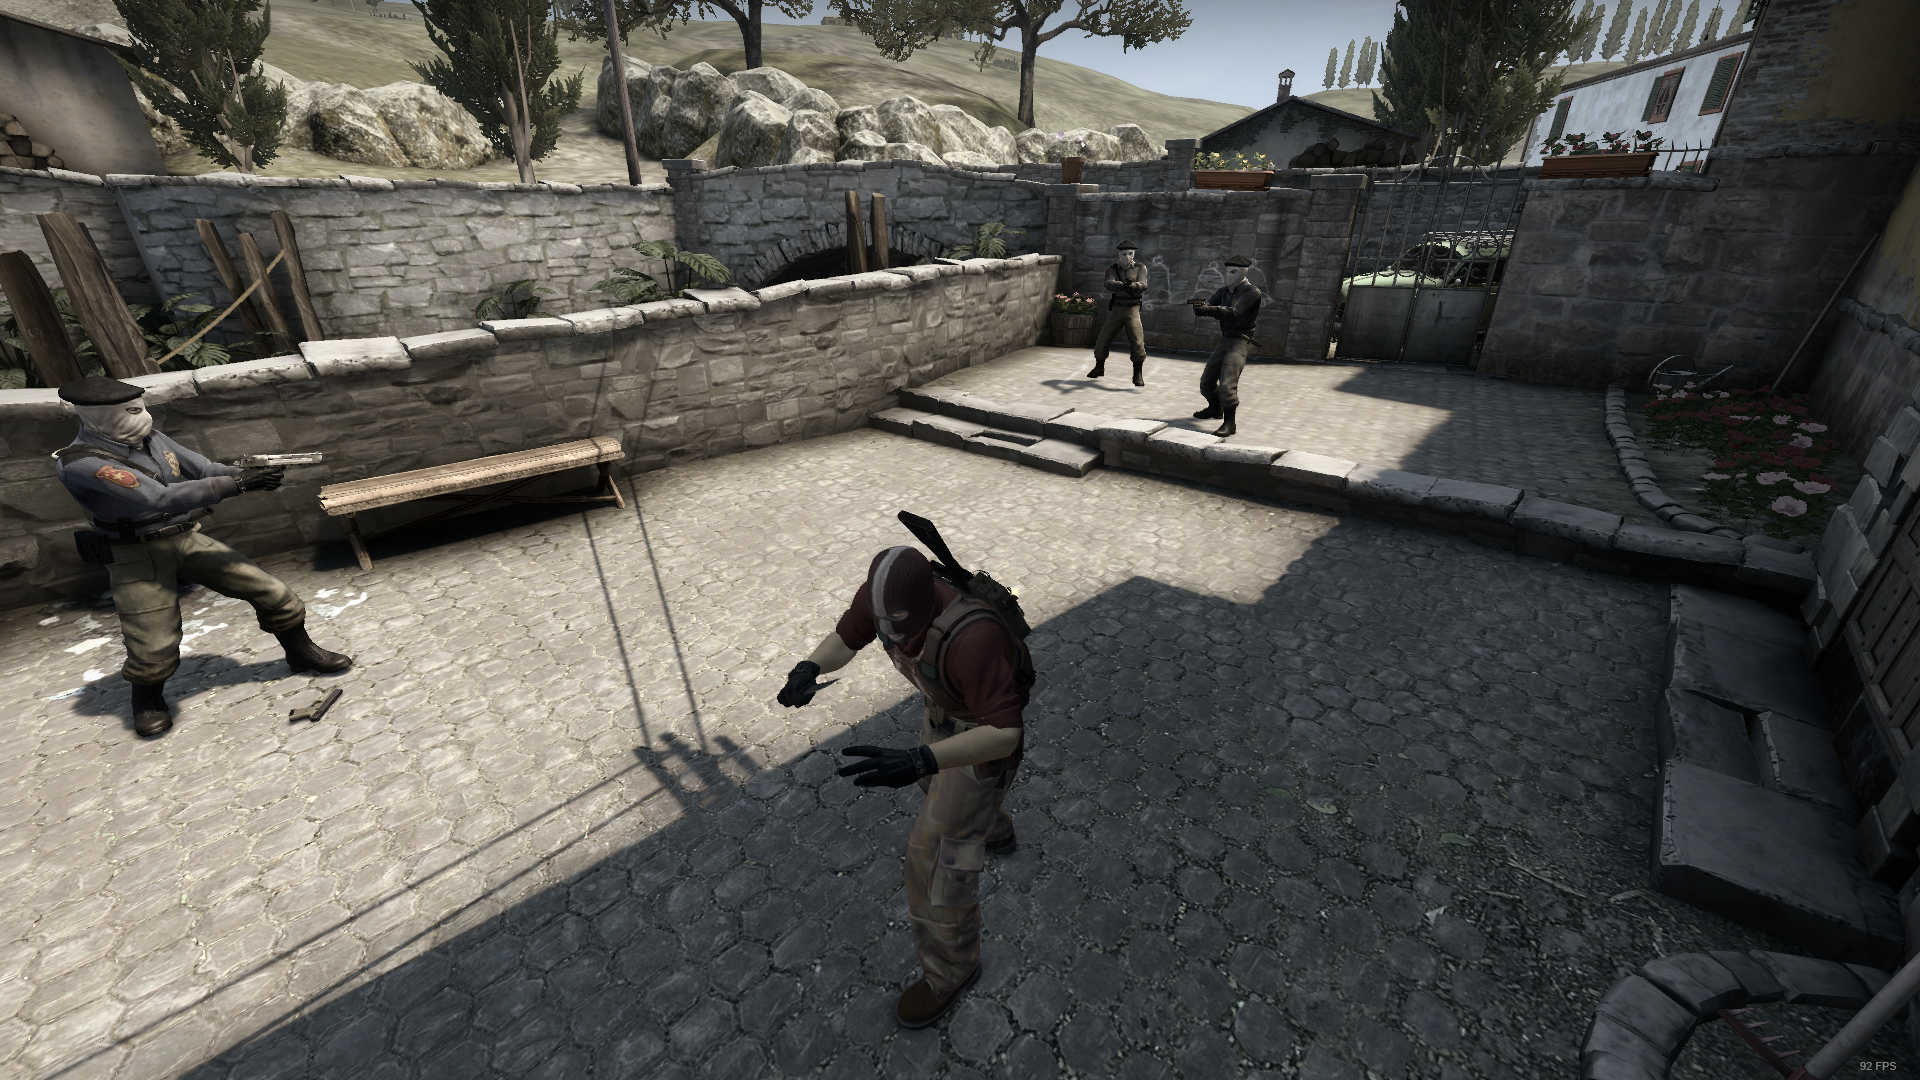t: (26, 377, 361, 741), (1187, 255, 1265, 446), (1087, 240, 1151, 393)
